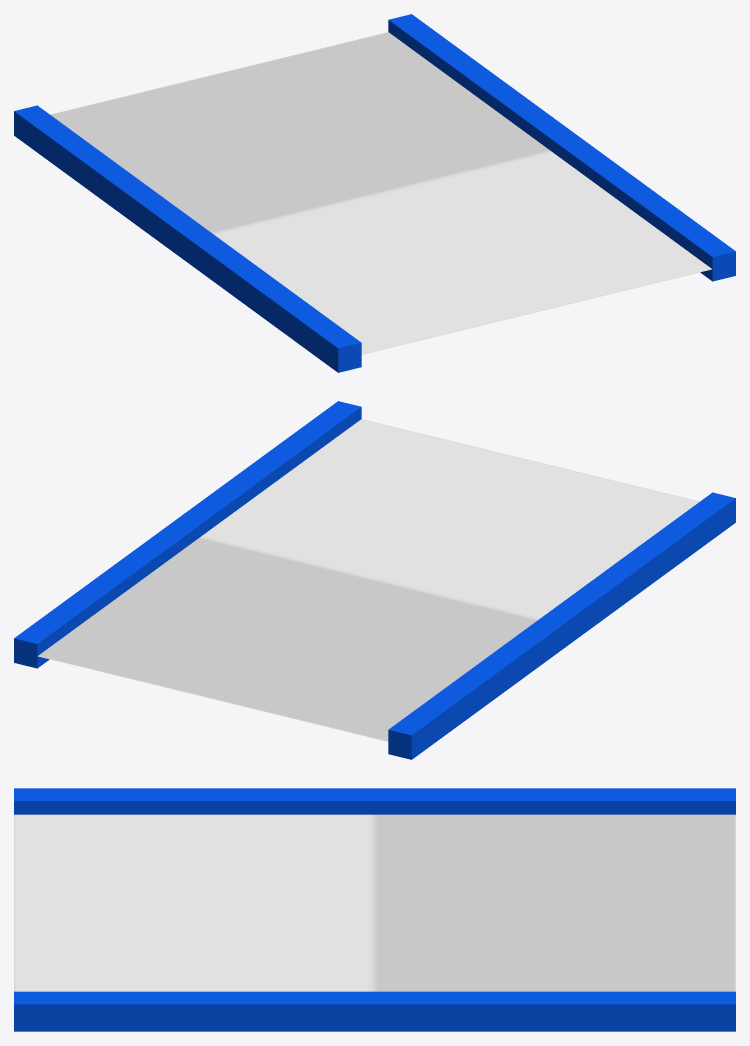
Rendered from Module_46.fbx.
3 views of the same model, one above another, from view 1: azimuth 30°, elevation 25°; view 2: azimuth 150°, elevation 25°; view 3: azimuth 270°, elevation 25° (orthographic). The views are drawn at different scales.
Visible parts, largest first — view 1: Road (1), Fence (2), Fence (1); view 2: Road (1), Fence (2), Fence (1); view 3: Road (1), Fence (1), Fence (2).
Part boxes in pixels (bbox=[...]): Road (1): bbox=[50, 32, 711, 354]; Fence (2): bbox=[14, 105, 361, 372]; Fence (1): bbox=[388, 14, 735, 281]; Road (1): bbox=[38, 419, 699, 741]; Fence (2): bbox=[388, 492, 735, 759]; Fence (1): bbox=[14, 401, 361, 668]; Road (1): bbox=[14, 814, 735, 991]; Fence (1): bbox=[14, 991, 735, 1031]; Fence (2): bbox=[14, 788, 735, 814].
Bounding box in the file's own units: 17 × 1 × 24.
Materials: 2 (1 with a texture image).
